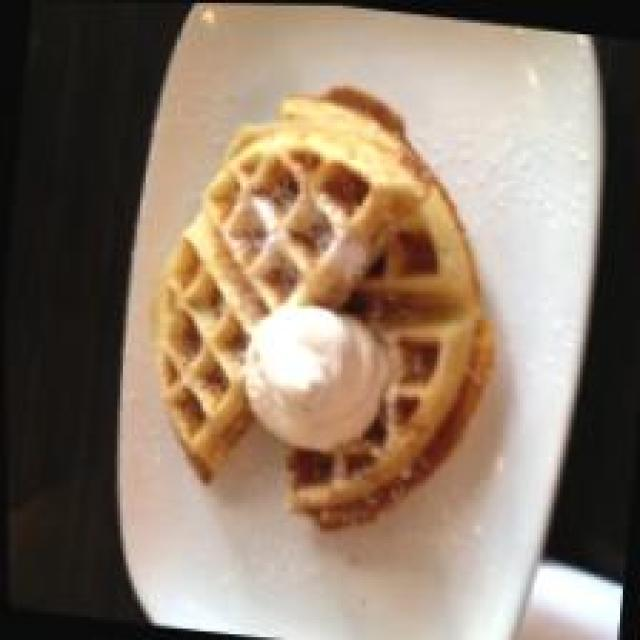Waffles: (143, 60, 526, 560)
